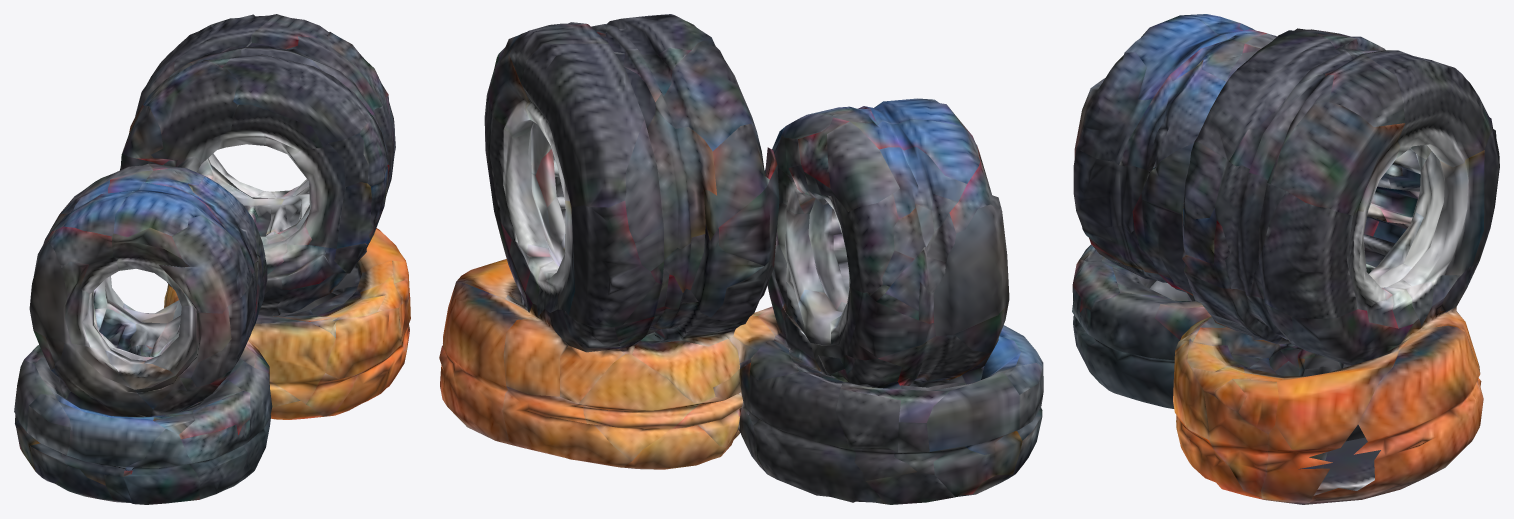
The picture shows the model from 3 angles, left to right: view 1: azimuth 30°, elevation 25°; view 2: azimuth 150°, elevation 25°; view 3: azimuth 270°, elevation 25°; orthographic projection. The views are drawn at different scales.
Bounding box in the file's own units: 0.6133 × 0.4916 × 0.4622.
1 material, 1 textured.
